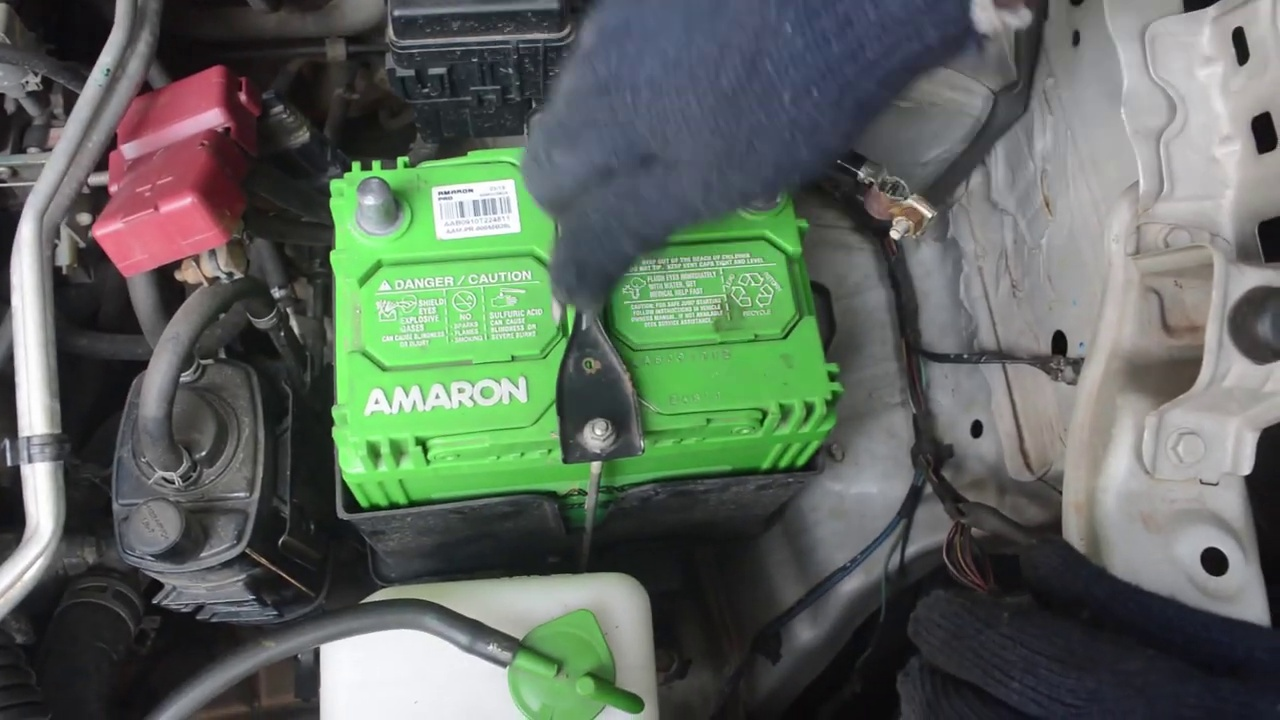battery: (315, 154, 839, 438)
pos_disconnected: (100, 90, 415, 265)
